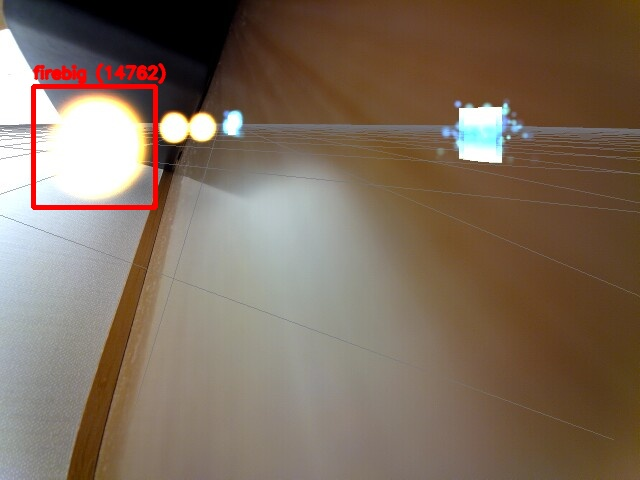firebig: (33, 86, 155, 207)
